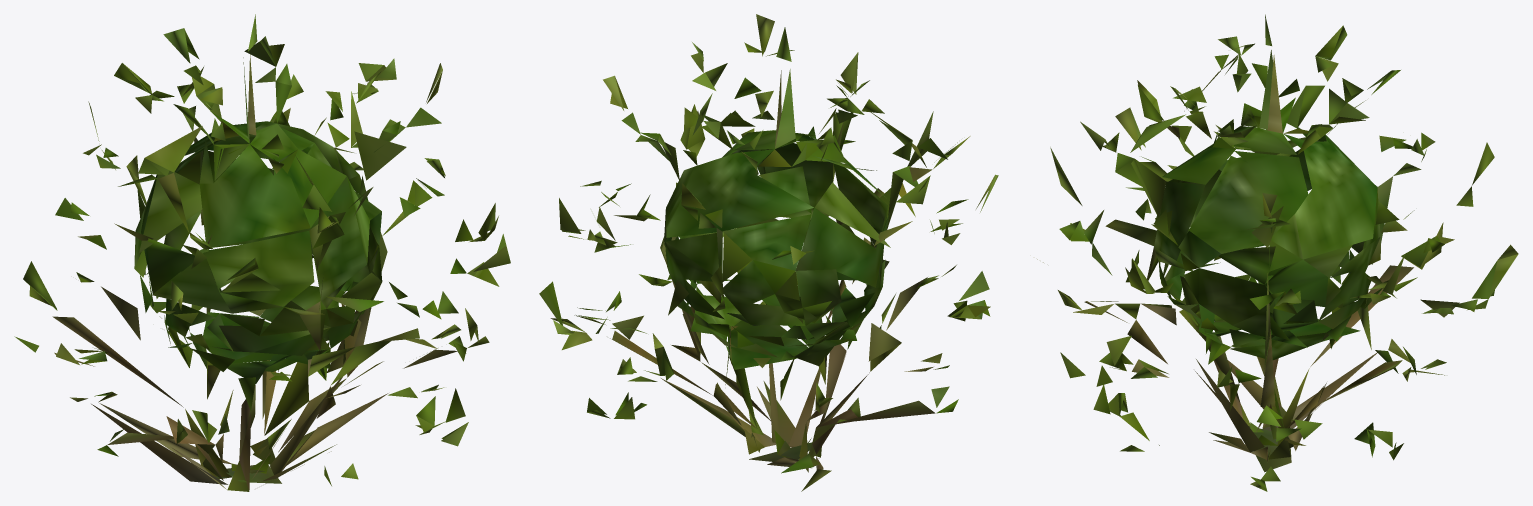
The model's file is arbusto_lod2.glb.
3 views of the same model, side by side, from view 1: azimuth 30°, elevation 25°; view 2: azimuth 150°, elevation 25°; view 3: azimuth 270°, elevation 25° (orthographic). The views are drawn at different scales.
Parts seen in each view (by area): view 1: arbusto; view 2: arbusto; view 3: arbusto.
Boxes of the visible parts, bbox=[...] form: arbusto: bbox=[14, 14, 510, 491]; arbusto: bbox=[539, 14, 998, 491]; arbusto: bbox=[1037, 14, 1518, 491].
Bounding box in the file's own units: 0.9878 × 1.02 × 1.02.
Materials: 1 (1 with a texture image).
